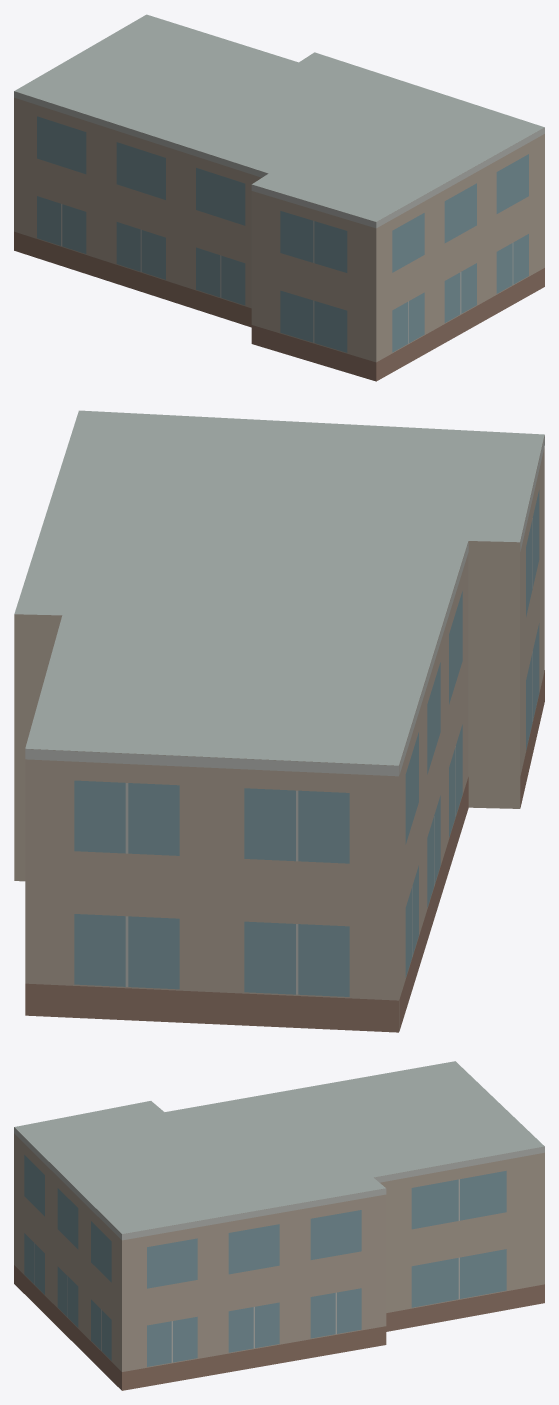
File: survey-upis-33001920.glb
3 views of the same model, one above another, from view 1: azimuth 30°, elevation 25°; view 2: azimuth 150°, elevation 25°; view 3: azimuth 270°, elevation 25° (orthographic). The views are drawn at different scales.
Visible parts, largest first — view 1: survey-upis-33001920.tmp; view 2: survey-upis-33001920.tmp; view 3: survey-upis-33001920.tmp.
Boxes of the visible parts, <box> form: survey-upis-33001920.tmp: <box>14,14,544,381</box>; survey-upis-33001920.tmp: <box>14,410,544,1032</box>; survey-upis-33001920.tmp: <box>14,1061,544,1390</box>.
Size of the model in its own units: 14.46 by 6.1 by 18.74.
